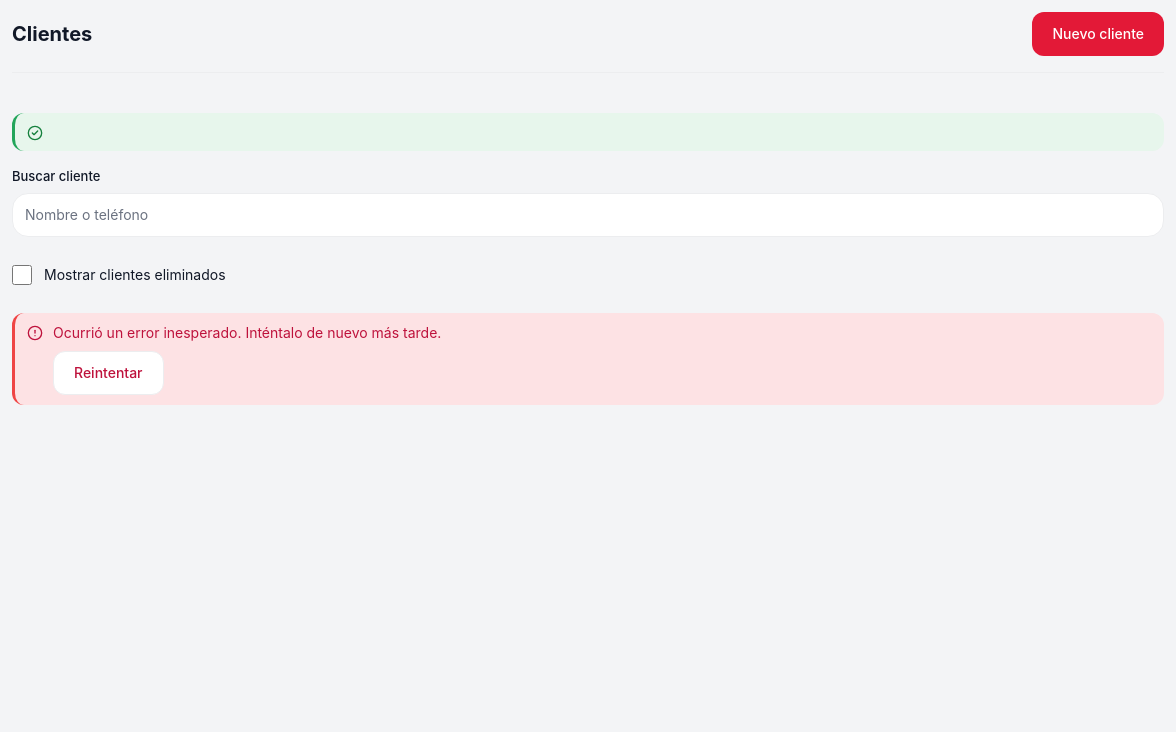
it: CustomersPage › ante un error ofrece reintentar
Expected: the message "Ocurrió un error inesperado. Inténtalo de nuevo más tarde. Reintentar" is shown, [12,312,1164,404]
Step 1. Click the button "Reintentar" → (108, 372), box [53,350,164,394]
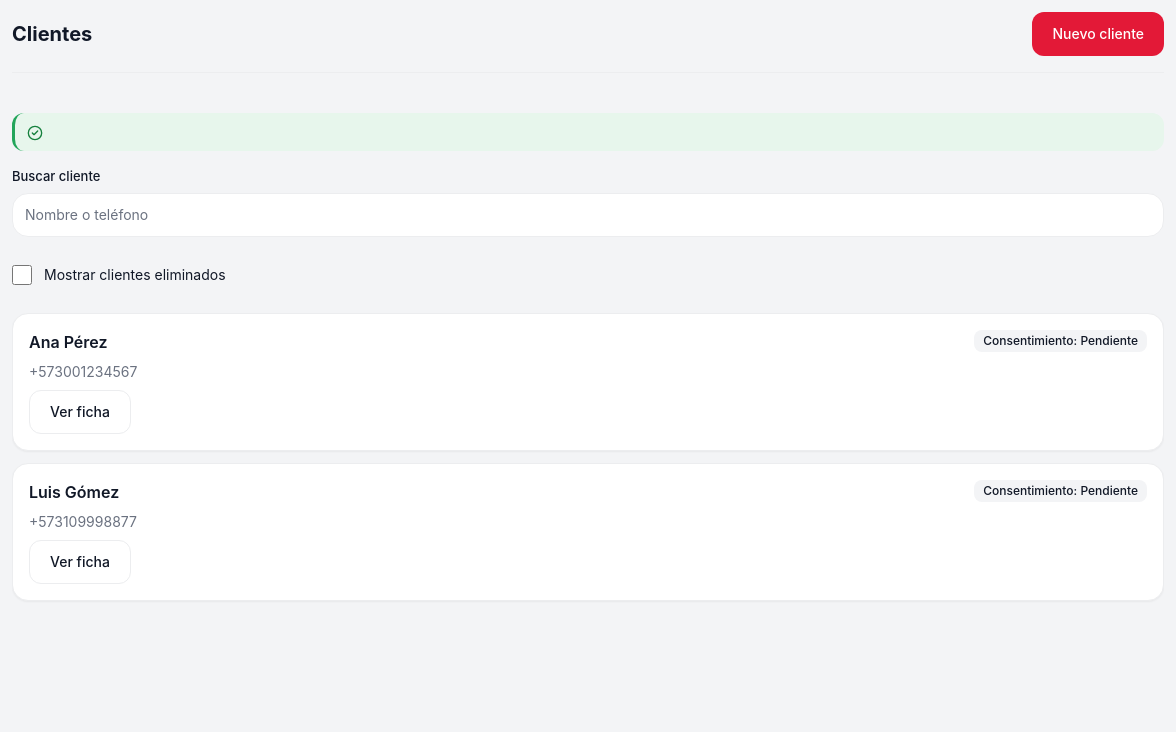
Expected: the heading "Ana Pérez" is shown, [29,330,108,354]
